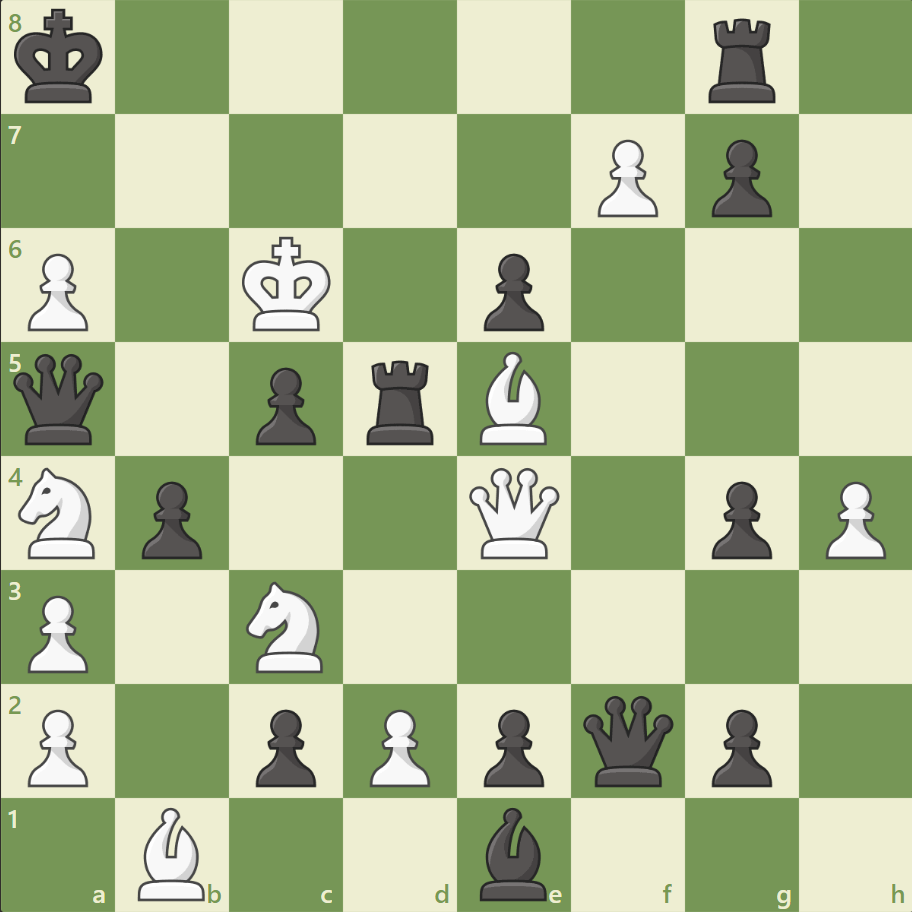B: (131, 801, 215, 904), (471, 347, 555, 449)
K: (238, 231, 338, 339)
N: (11, 461, 108, 564), (238, 575, 335, 677)
P: (20, 246, 95, 337), (20, 586, 95, 677), (20, 700, 95, 791), (588, 132, 662, 223), (815, 473, 889, 564), (361, 700, 435, 791)
Q: (464, 463, 563, 562)
b: (471, 801, 555, 904)
k: (11, 4, 111, 112)
p: (701, 132, 776, 223), (474, 246, 549, 337), (247, 359, 322, 450), (133, 473, 208, 564), (701, 473, 776, 564), (247, 700, 322, 791), (474, 700, 549, 791), (701, 700, 776, 791)
q: (10, 349, 109, 449), (578, 690, 677, 789)
r: (700, 12, 783, 109), (360, 352, 442, 449)
